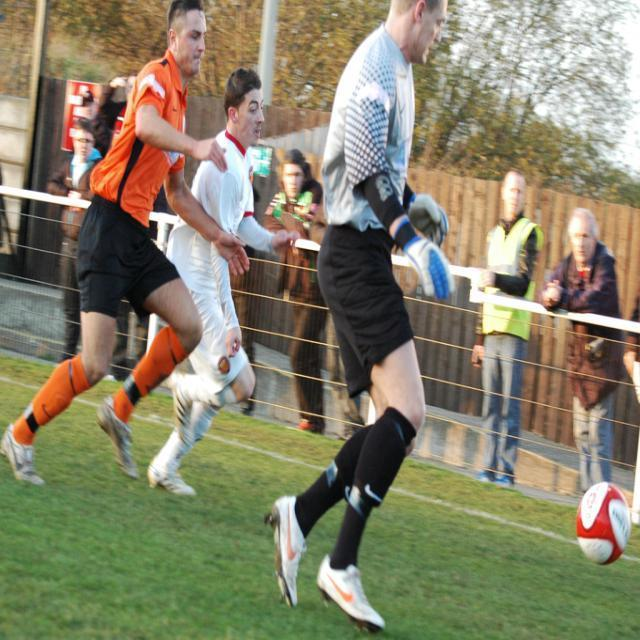football: (579, 482, 634, 577)
